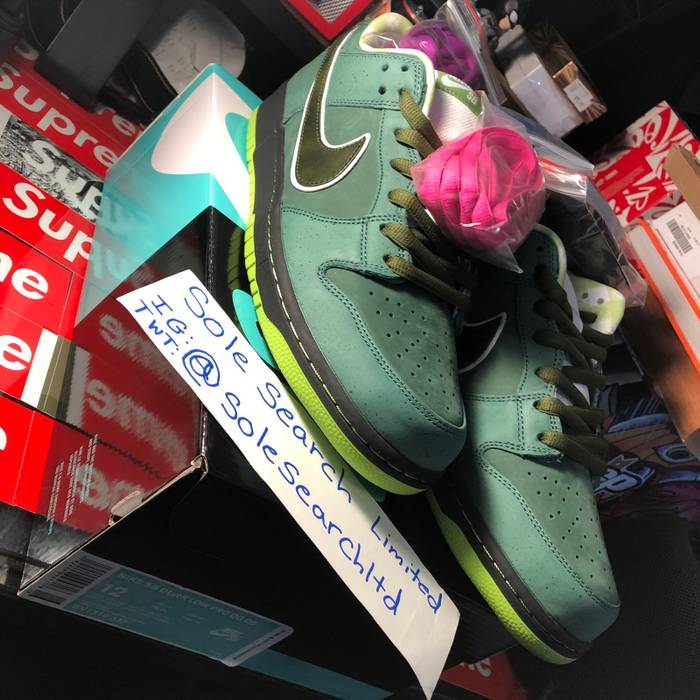Nike SB Dunk Green Lobster: (389, 80, 636, 674), (239, 13, 496, 515)
